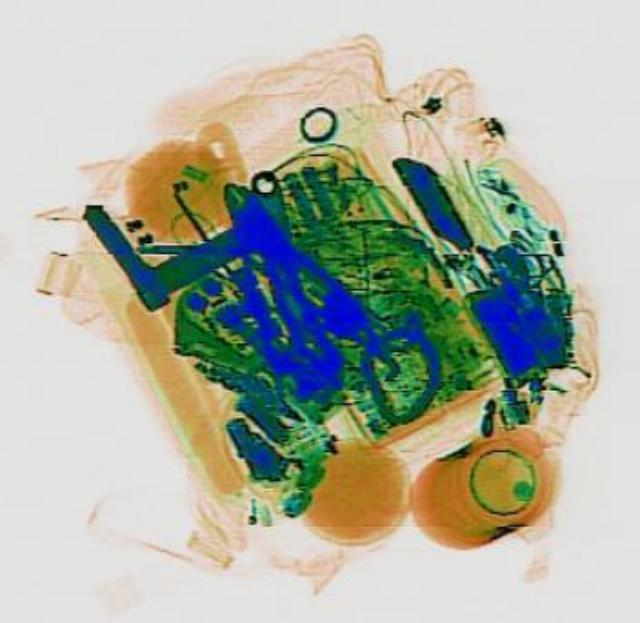Pliers: (172, 156, 388, 395)
Wrench: (227, 162, 349, 389)
